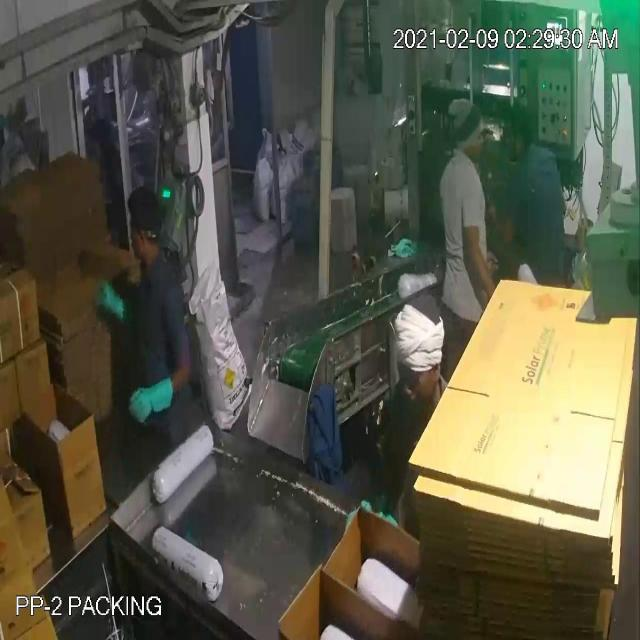Gloves: (46, 62, 478, 400)
